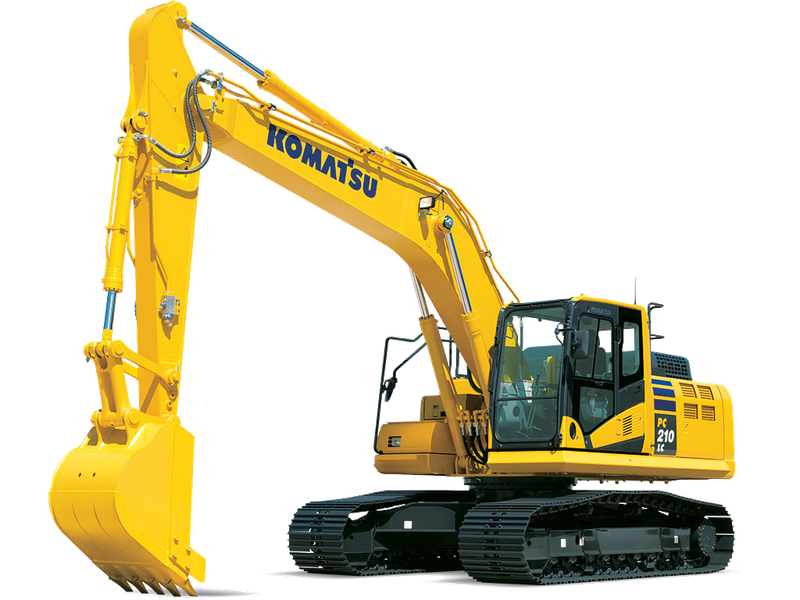shovel: (44, 1, 741, 600)
